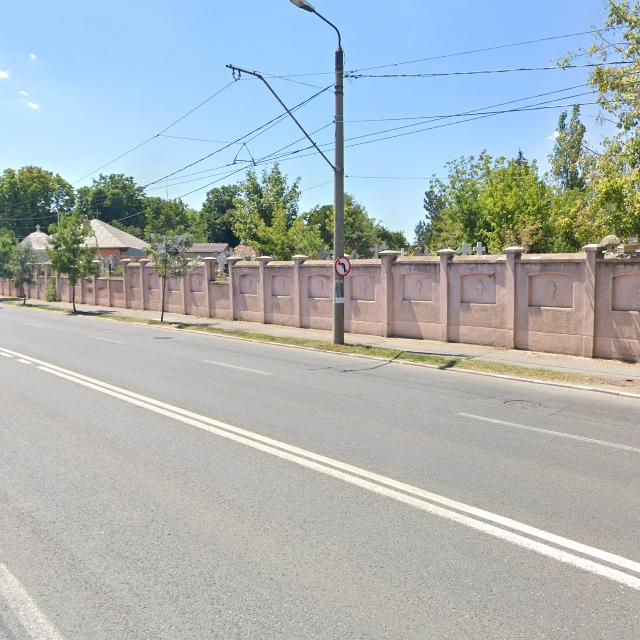forb_left: (335, 256, 350, 276)
